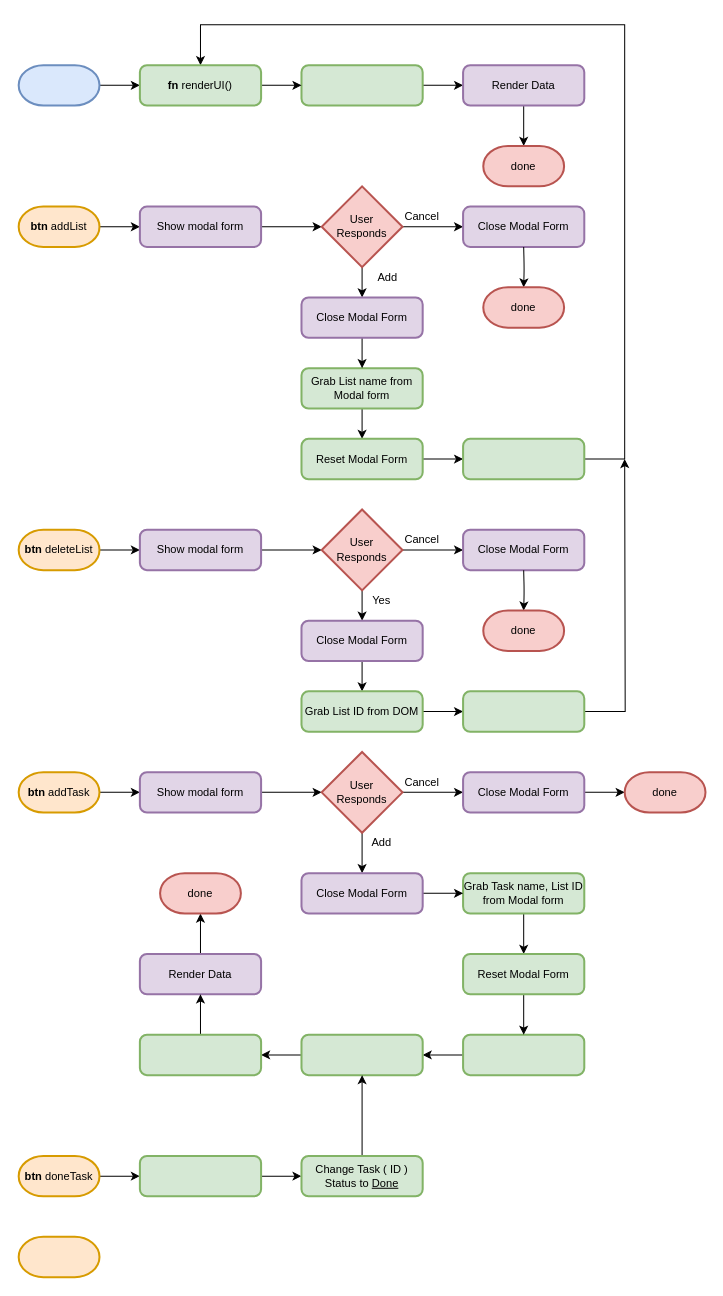
The diagram is 723 pixels wide and 1296 high, and some of its shapes have lost their labels. The centre of each missing label's shape, as x and y in pixels:
btn undoTask: (x=58, y=1256)
Fetch all List data: (x=361, y=85)
Fetch all Task Data with List ID: (x=200, y=1054)
Find and Remove the List from Task List: (x=523, y=711)
fn() renderTaskList(id): (x=361, y=1054)
Grab Task ID, List ID: (x=200, y=1175)
Page Load: (x=58, y=85)
Push new List to Task List: (x=523, y=458)
Push Task to Specific List ( ID ): (x=523, y=1054)
